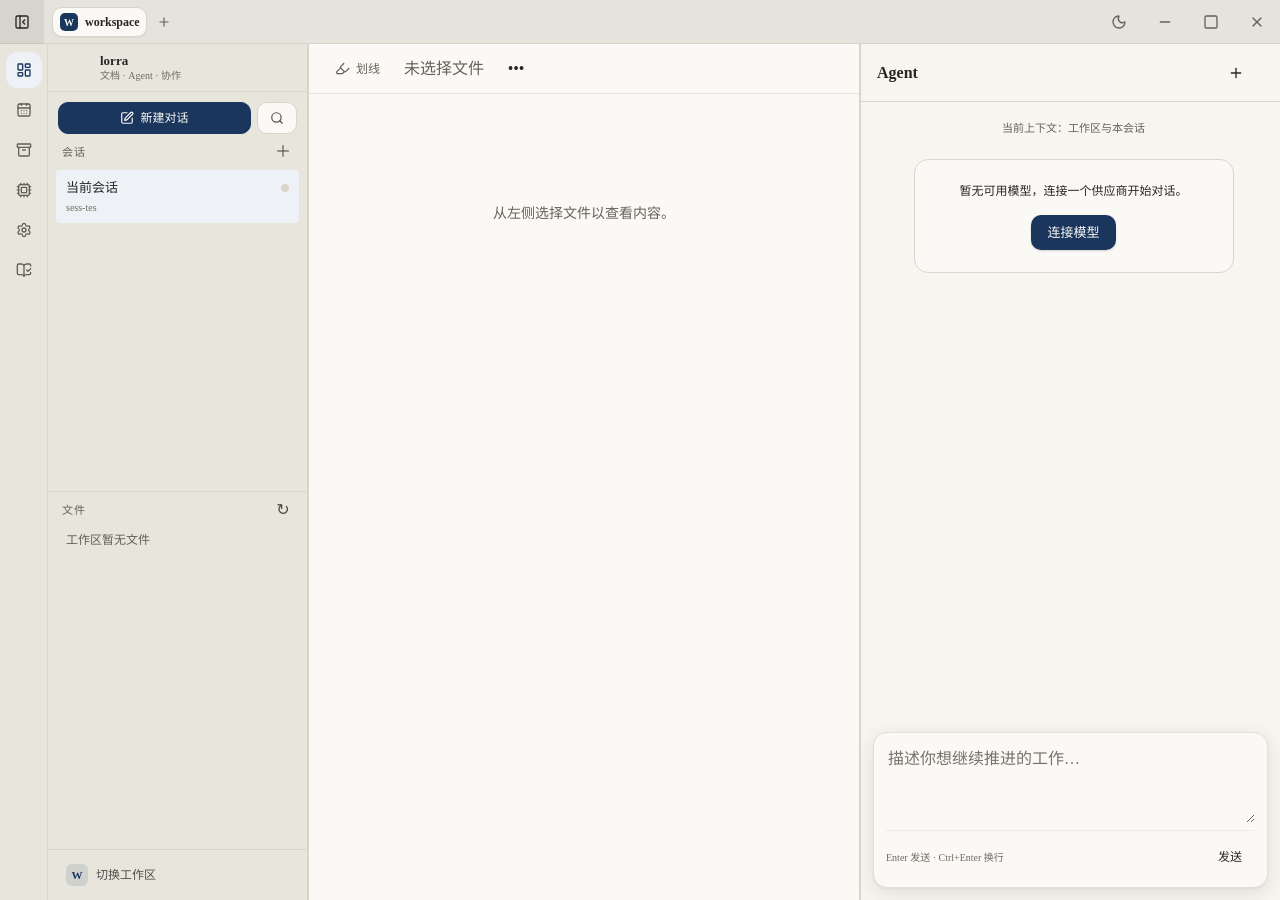
Scenario: 7.3 入口跳转与空/正常态 › 空态 CTA: 点「连接模型」空态按钮 → 配置页（ProvidersPage）出现
The width and height of the screenshot is (1280, 900).
Expected: the element named "Agent 对话" is shown, top-left (860, 44), bottom-right (1279, 899)
Click the button "连接模型" at coordinates (1074, 232), box top-left (1032, 215), bottom-right (1116, 250)
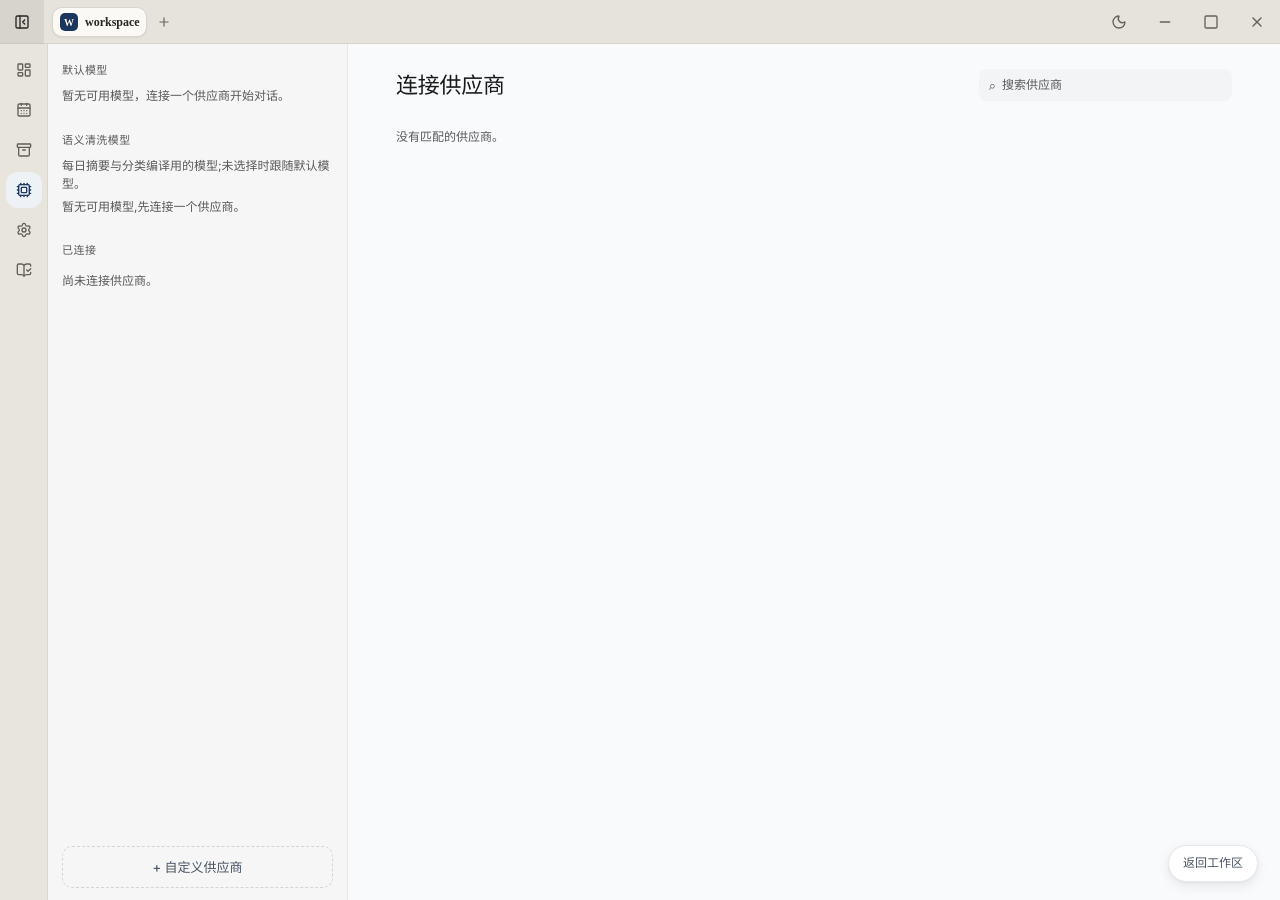
Expected: the button "返回工作区" is shown, top-left (1168, 845), bottom-right (1258, 882)
Expected: the text "已连接" is shown, top-left (62, 244), bottom-right (96, 258)
Expected: the text "默认模型" is shown, top-left (62, 63), bottom-right (108, 77)
